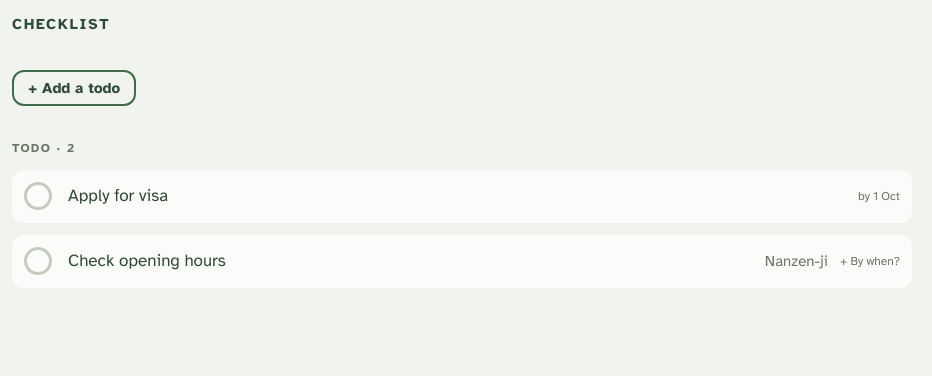
Test case: TripChecklist › keeps the composer out of the way until it is asked for
Expected: the text "Apply for visa" is shown, [68,185,168,206]
Expected: the field labelled "What needs doing?" is not shown
Click the button "+ Add a todo" at (74, 88), box [12,70,136,106]
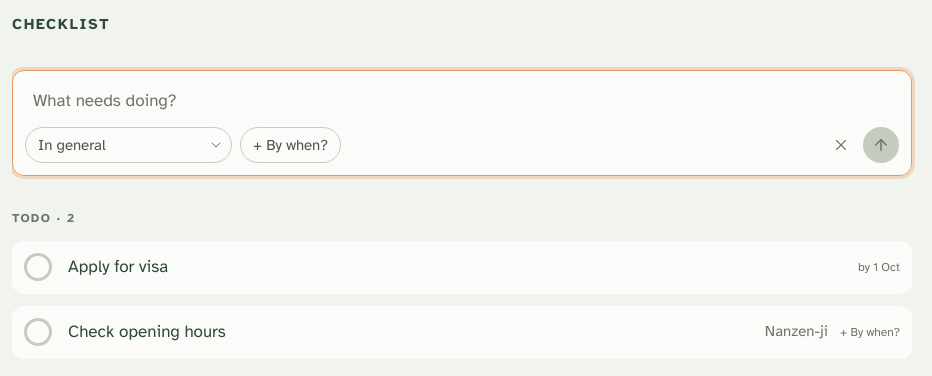
Expected: the button "+ Add a todo" is gone
